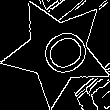O_SW: (25, 20, 89, 83)
